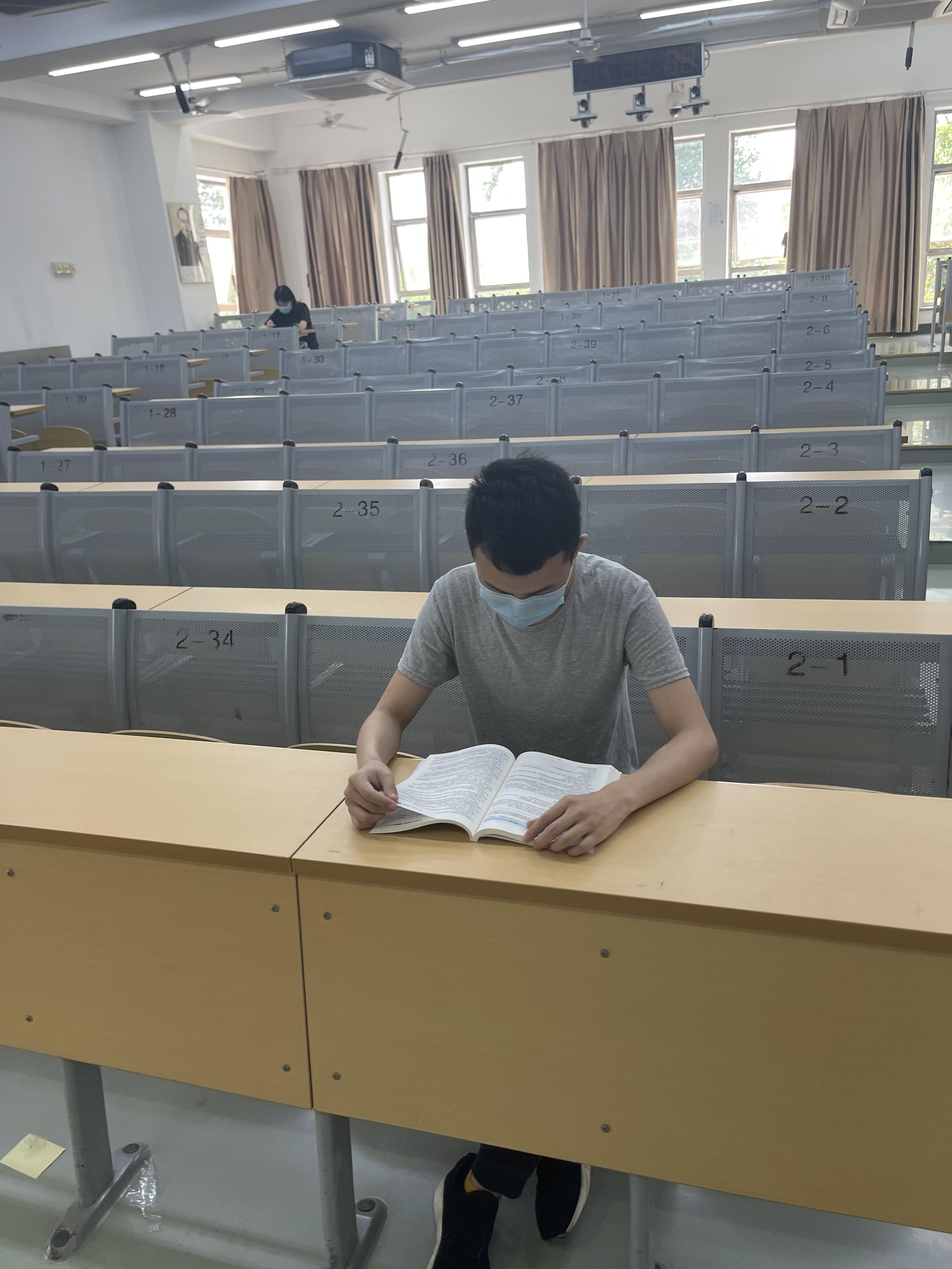study: (346, 463, 718, 858), (264, 285, 309, 334)
